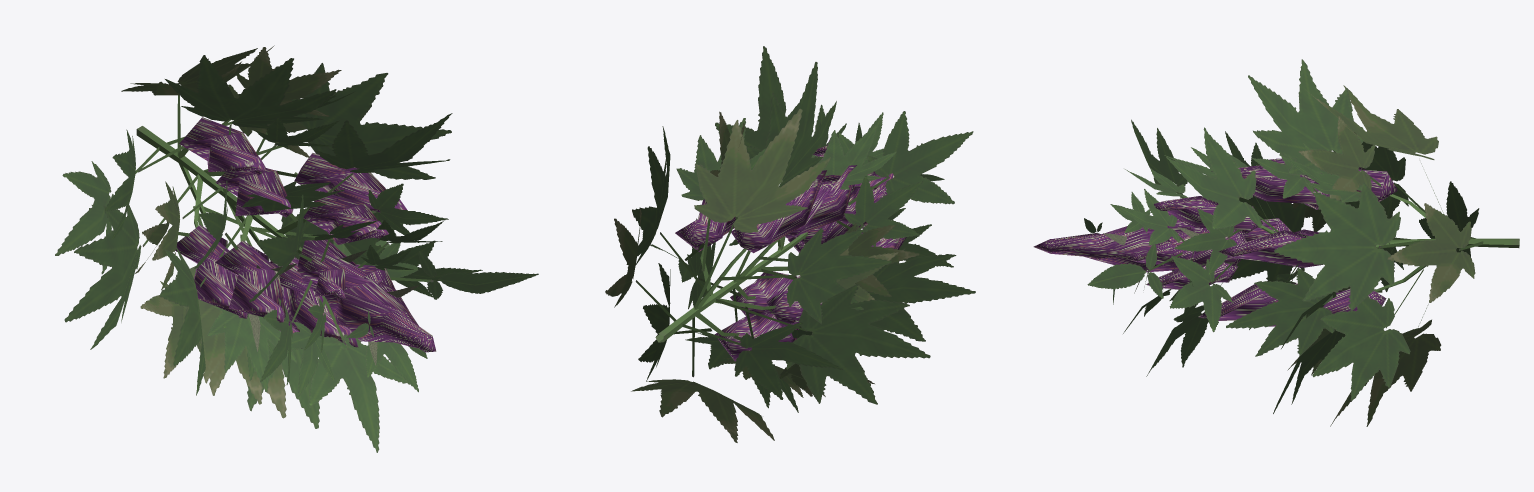
File: p_purple_tree_ripe_c0_cards.obj
3 renders of one model, left to right at view 1: azimuth 30°, elevation 25°; view 2: azimuth 150°, elevation 25°; view 3: azimuth 270°, elevation 25°, orthographic. The views are drawn at different scales.
Bounding box in the file's own units: 1.5 × 1.6 × 1.81.
Materials: 1 (1 with a texture image).
